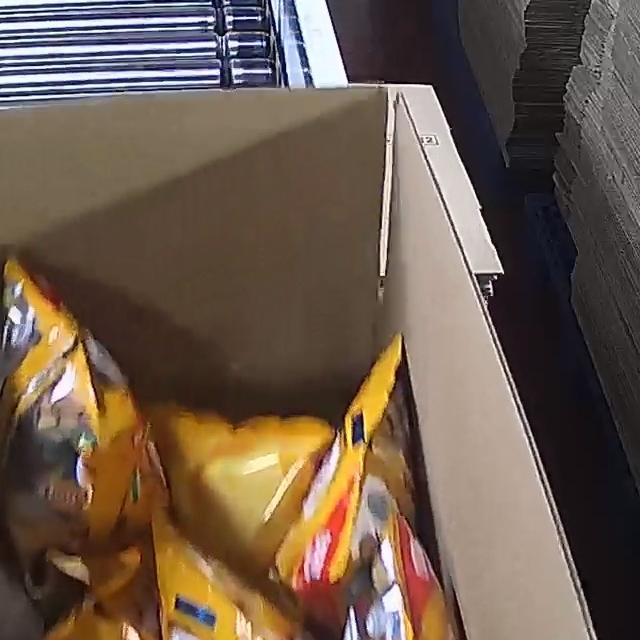cheese: (0, 251, 494, 640)
